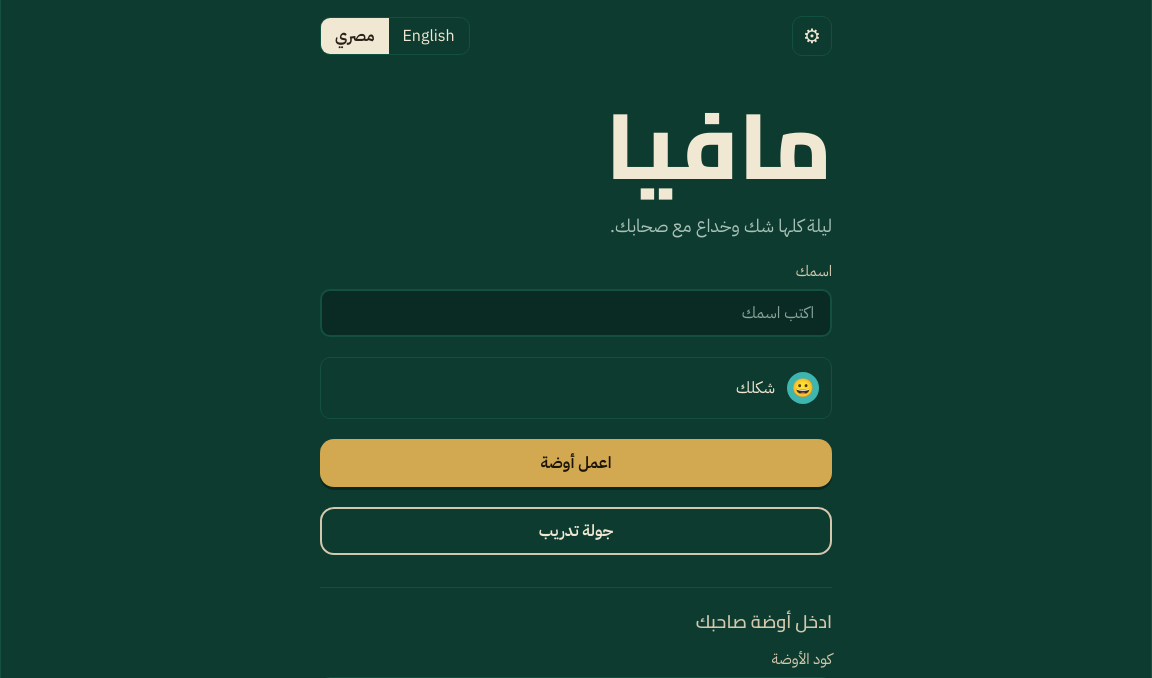
Test: settings › can be opened in Egyptian Arabic
Click the button named "الإعدادات": {"x": 812, "y": 36} [792,16,832,56]
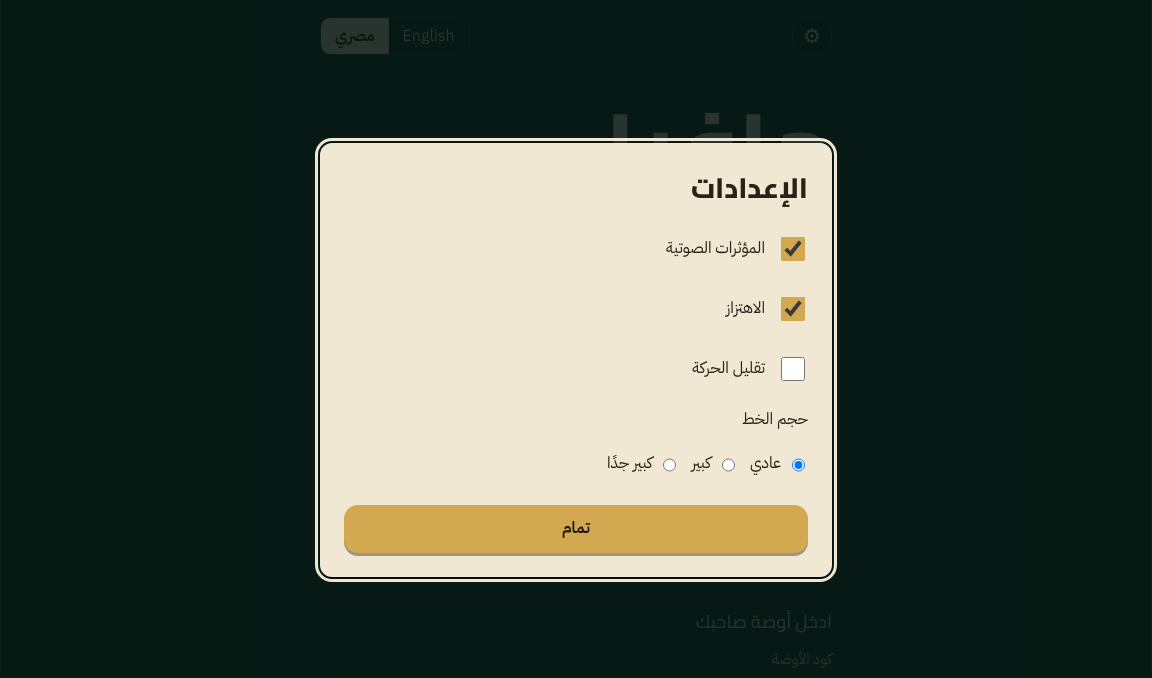
expect the dialog "الإعدادات" is shown: met, box [320,143,832,577]
expect the radio button labelled "كبير جدًا" is shown: met, box [663,441,676,489]
